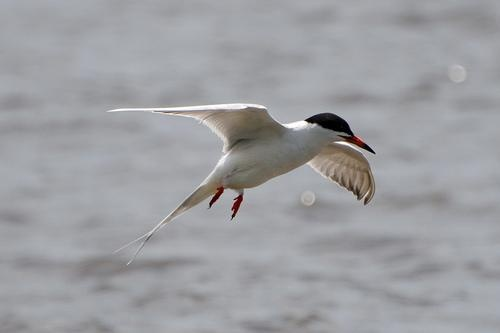bird: (110, 103, 376, 268)
